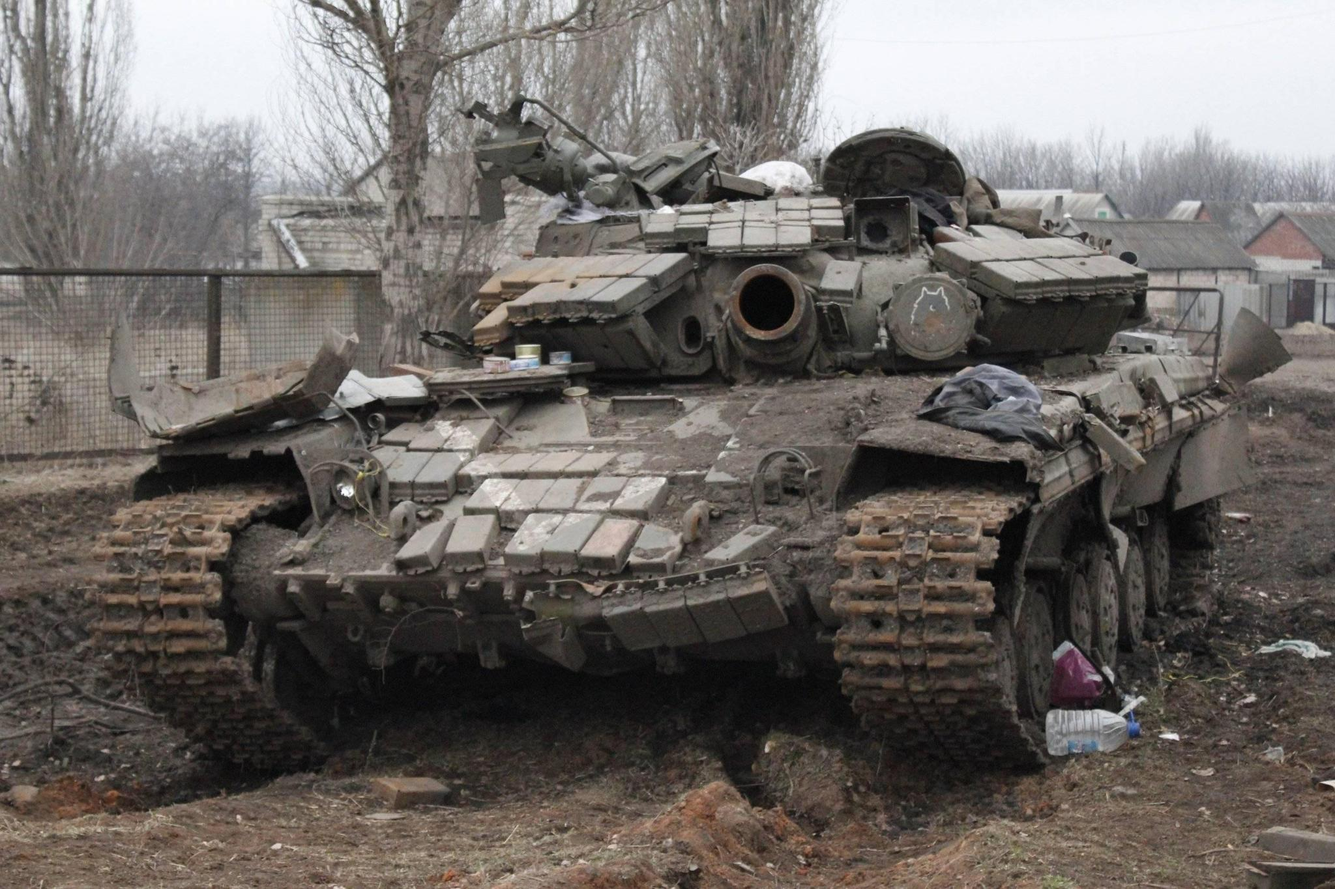tank: (87, 88, 1297, 784)
